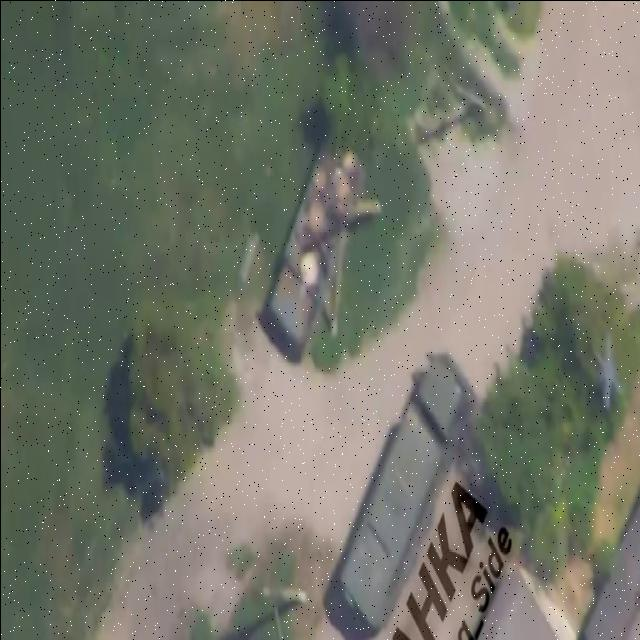TRUCK: (338, 346, 466, 632), (263, 132, 363, 364)
